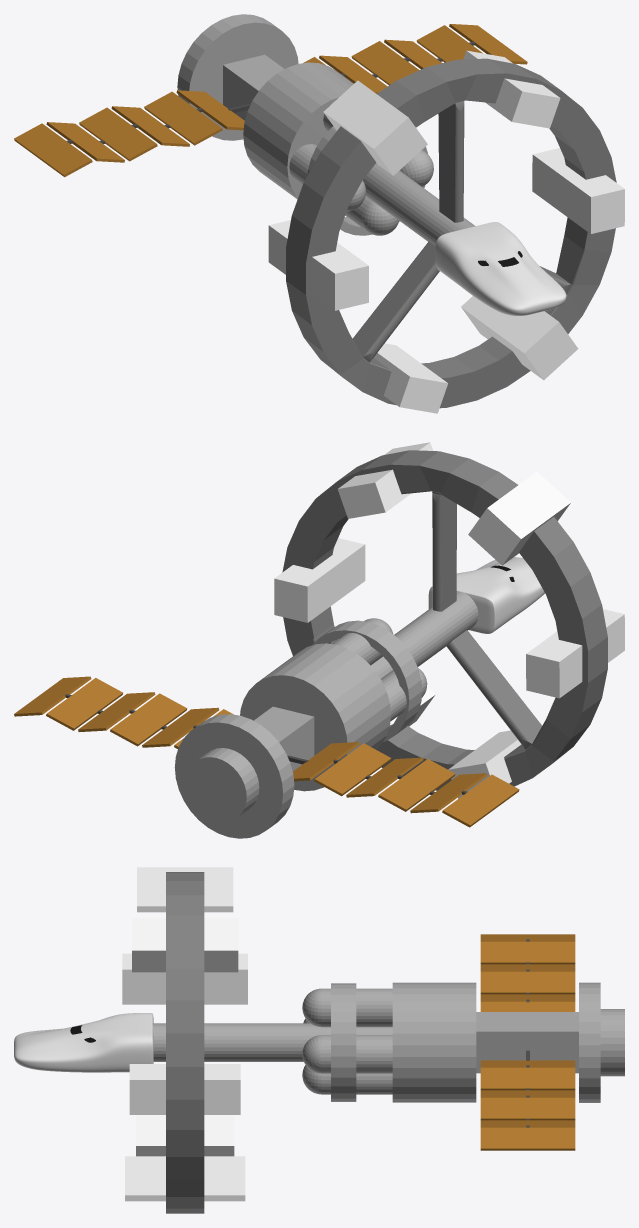
File: Interstelar.fbx
3 views of the same model, one above another, from view 1: azimuth 30°, elevation 25°; view 2: azimuth 150°, elevation 25°; view 3: azimuth 270°, elevation 25° (orthographic). The views are drawn at different scales.
Visible parts, largest first — view 1: Cylinder, Cube.004, Cylinder.001, Cube.003, Cube; view 2: Cylinder.001, Cylinder, Cube.004, Cube.003, Cube; view 3: Cylinder.001, Cube.004, Cube.003, Cylinder, Cube.
Part boxes in pixels (<box>): Cylinder: <box>286,58,616,408</box>; Cube.004: <box>268,50,624,413</box>; Cylinder.001: <box>177,14,475,245</box>; Cube.003: <box>14,24,527,177</box>; Cube: <box>435,222,566,315</box>; Cylinder.001: <box>174,591,478,838</box>; Cylinder: <box>282,450,607,790</box>; Cube.004: <box>274,442,624,798</box>; Cube.003: <box>14,676,519,827</box>; Cube: <box>428,557,544,633</box>; Cylinder.001: <box>152,982,624,1102</box>; Cube.004: <box>122,867,247,1201</box>; Cube.003: <box>480,934,575,1150</box>; Cylinder: <box>166,872,204,1213</box>; Cube: <box>14,1013,153,1072</box>.
Bounding box in the file's own units: 727 × 488 × 875.
